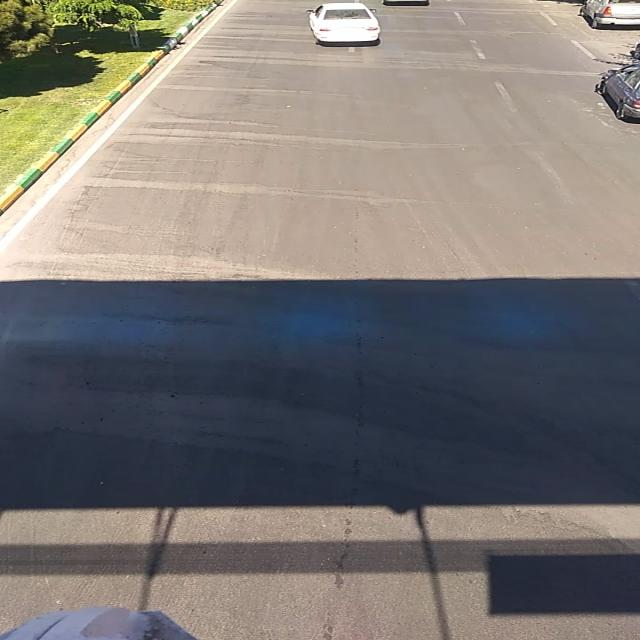car: (305, 2, 384, 48)
